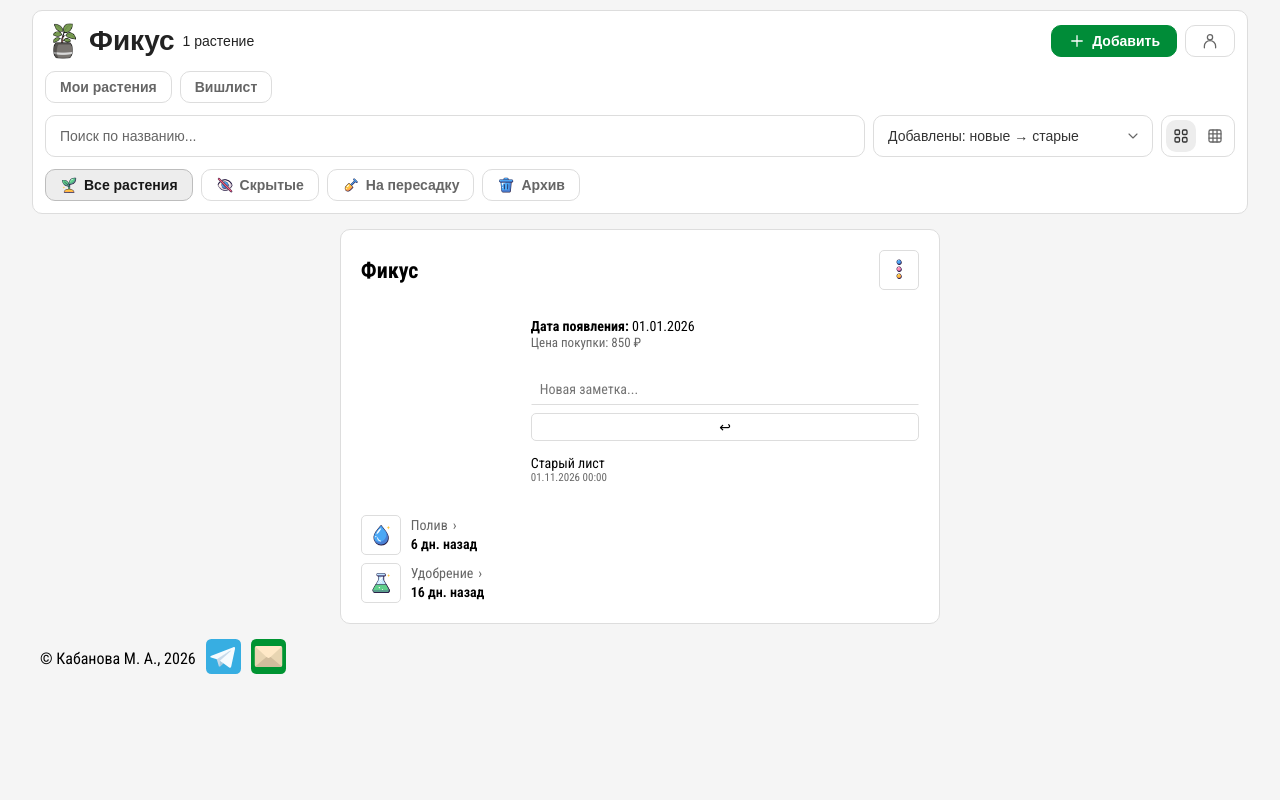
shows an access failure inside the sale dialog and allows retry after rules are corrected
Click the button named "menu": (899, 270) [879,250,919,290]
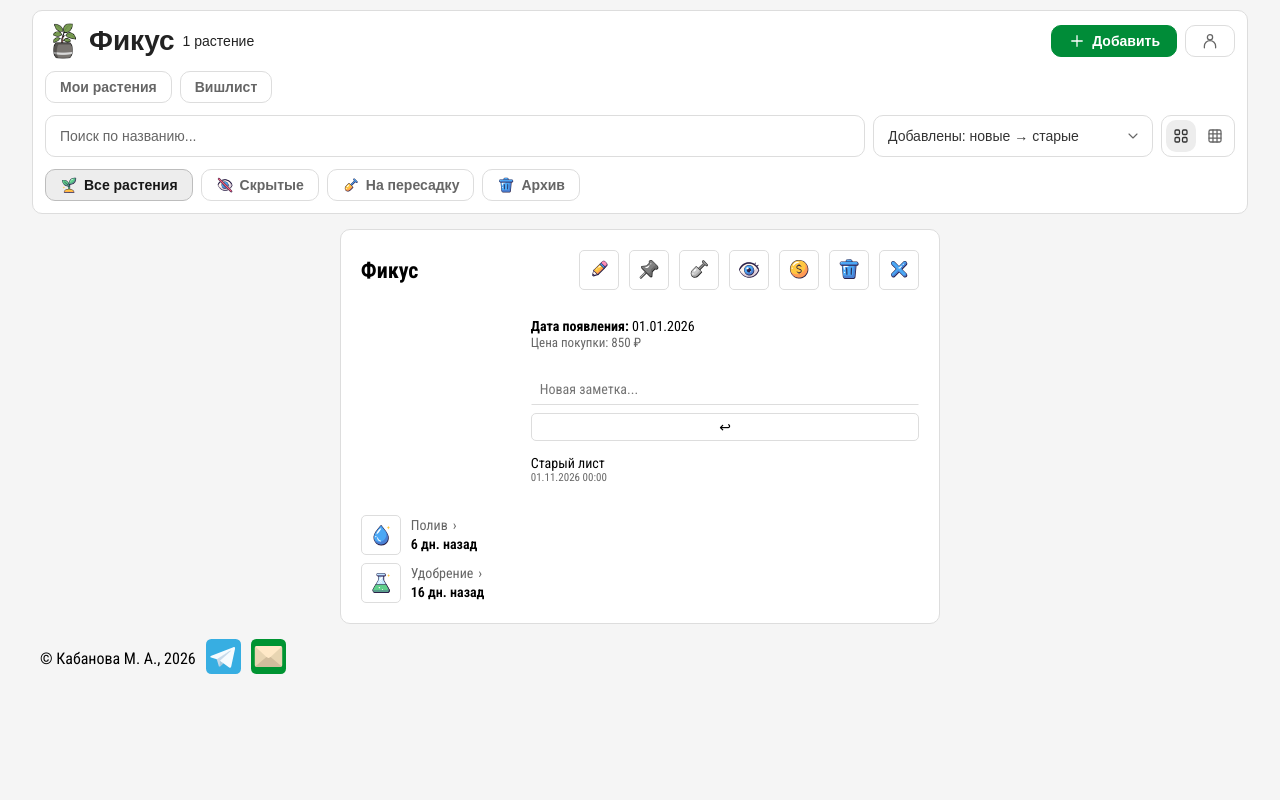
Click the button named "Продано": (799, 270) [779,250,819,290]
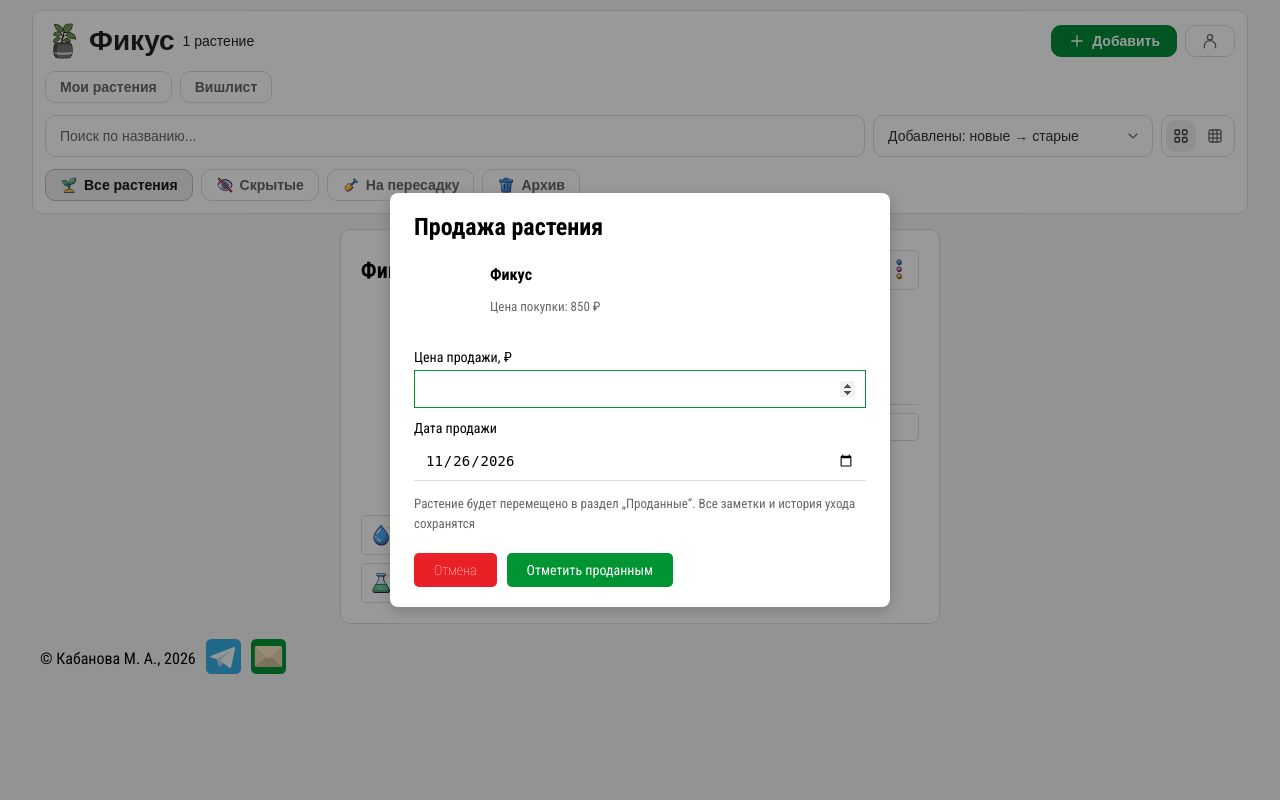
In the number field labelled "Цена продажи, ₽": (640, 389) [414,370,866,408], type "600"
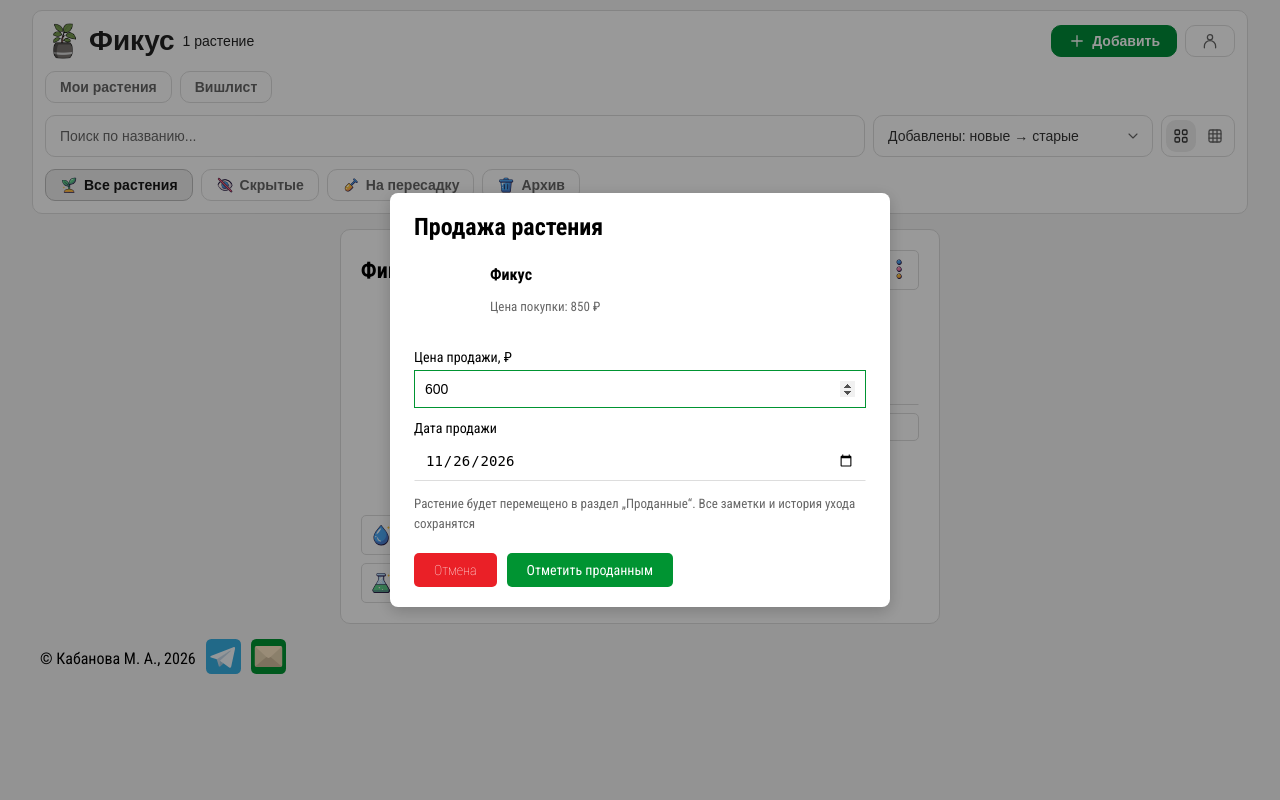
In the date field labelled "Дата продажи": (640, 461) [414,441,866,481], type "2026-11-23"
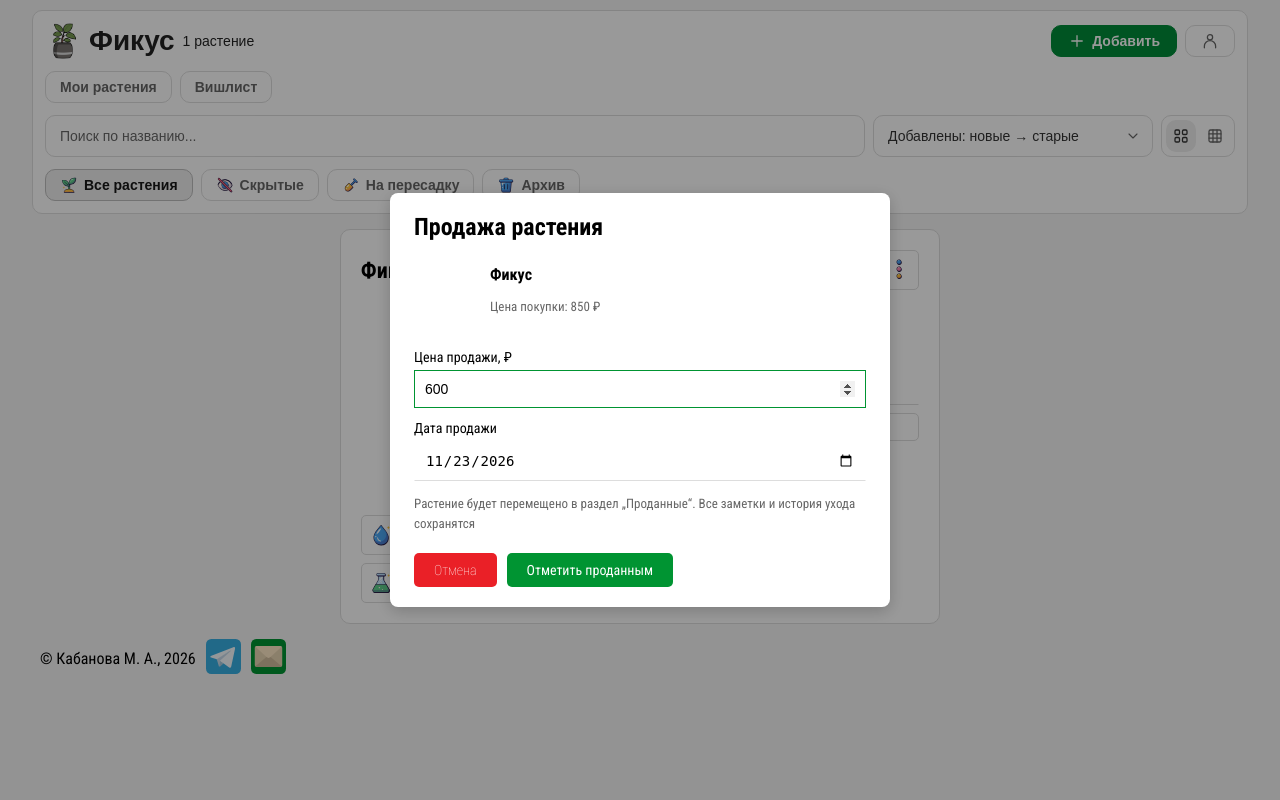
Click the button "Отметить проданным": (590, 570) [506,553,673,587]
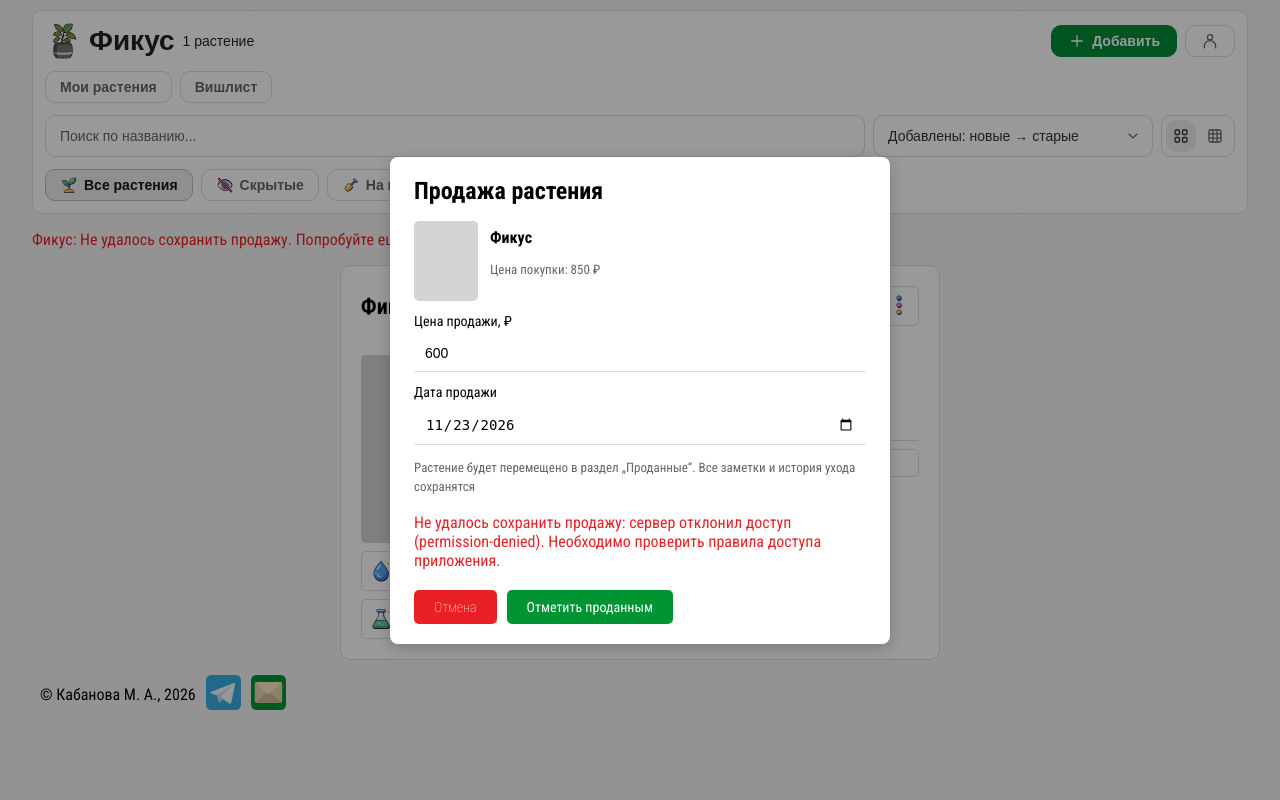
Now the 2nd message shows "permission-denied", box [414,512,821,570]
Click the button "Отметить проданным": (590, 606) [506,590,673,624]
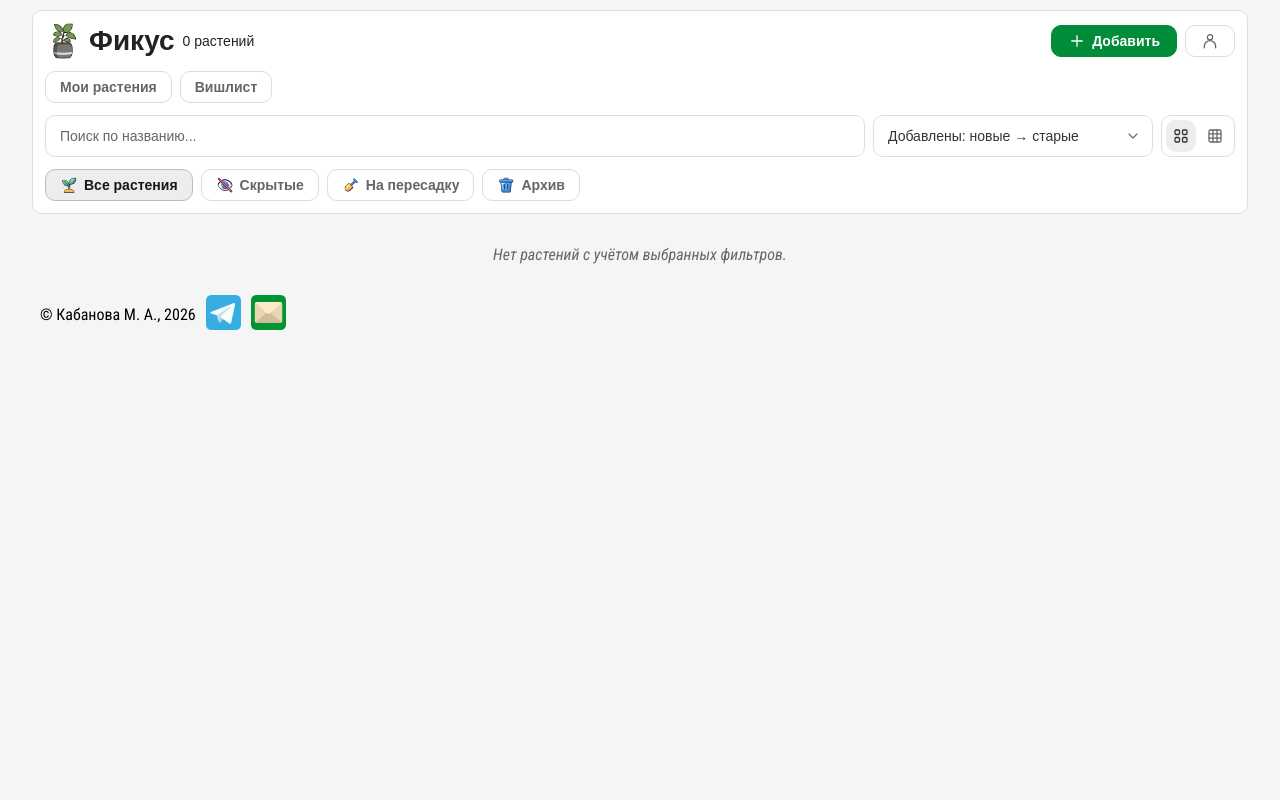
Now the dialog is gone
